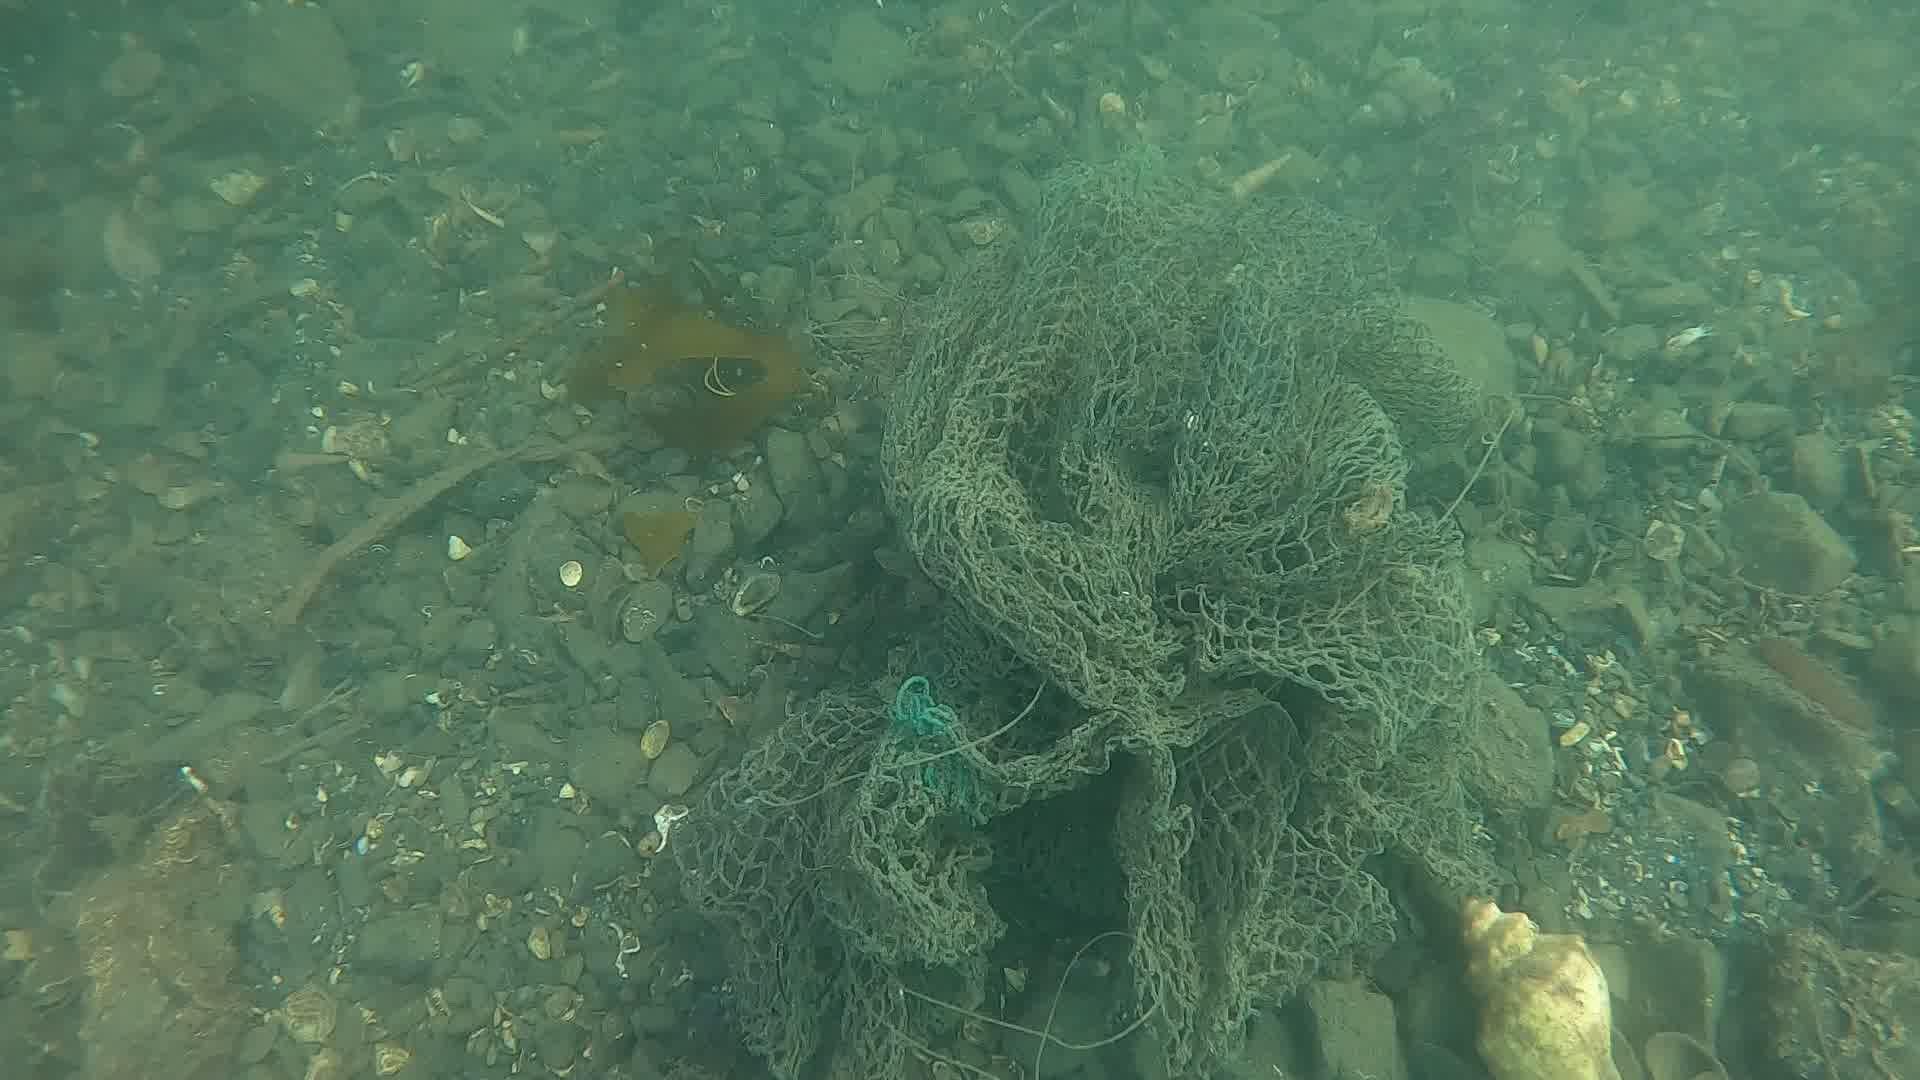fish net: (669, 169, 1480, 1064)
